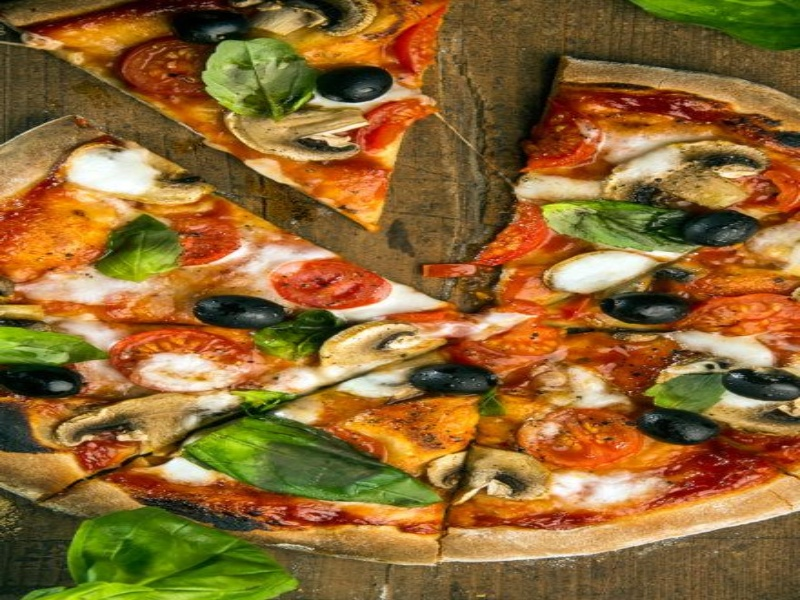champignon: (602, 130, 774, 211), (54, 385, 240, 459), (428, 444, 567, 518)
